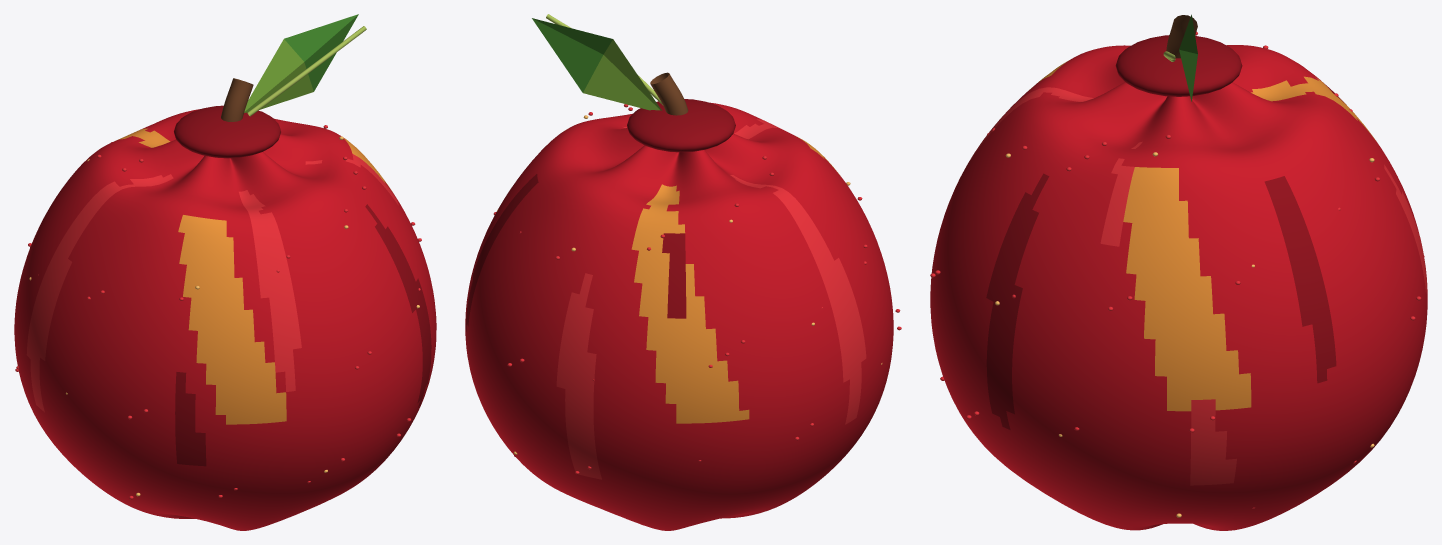
File: Mazana.glb
3 views of the same model, side by side, from view 1: azimuth 30°, elevation 25°; view 2: azimuth 150°, elevation 25°; view 3: azimuth 270°, elevation 25° (orthographic). The views are drawn at different scales.
Visible parts, largest first — view 1: Manzana_Roja_Premium_MESH; view 2: Manzana_Roja_Premium_MESH; view 3: Manzana_Roja_Premium_MESH.
Part boxes in pixels (left/top/right/bottom): Manzana_Roja_Premium_MESH: left=14, top=14, right=436, bottom=530; Manzana_Roja_Premium_MESH: left=465, top=14, right=901, bottom=530; Manzana_Roja_Premium_MESH: left=930, top=14, right=1427, bottom=530.
Size of the model in its own units: 1.16 by 1.37 by 1.14.
